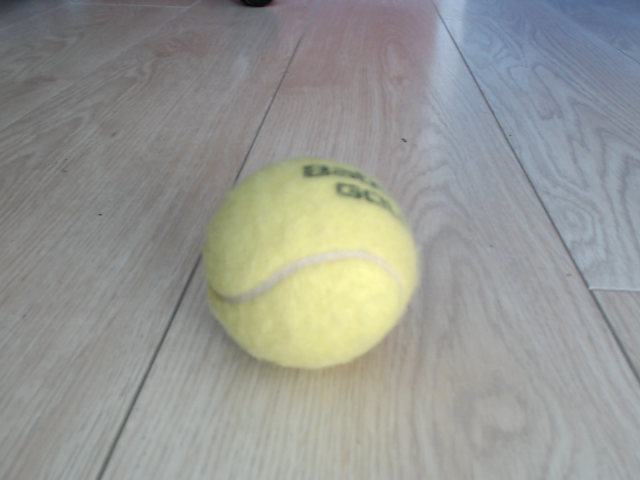ball: (199, 157, 424, 372)
